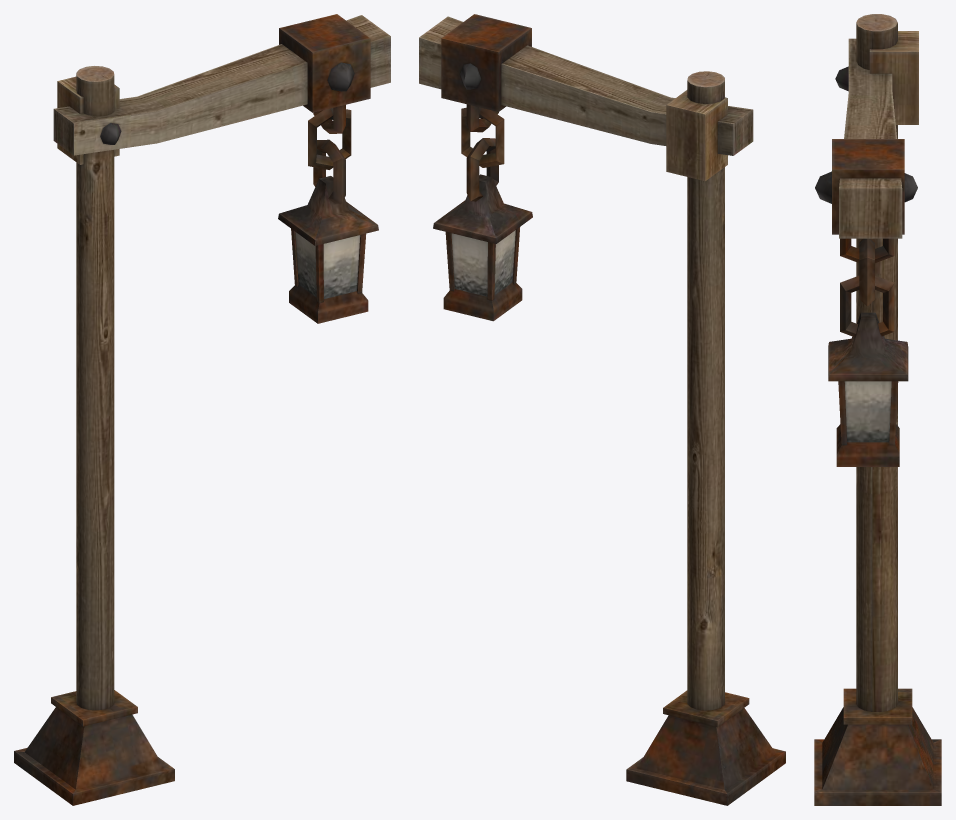
The model's file is Lamp_Street_2.glb.
The picture shows the model from 3 angles, left to right: view 1: azimuth 30°, elevation 25°; view 2: azimuth 150°, elevation 25°; view 3: azimuth 270°, elevation 25°; orthographic projection. The views are drawn at different scales.
Visible parts, largest first — view 1: Lamp_Street_2; view 2: Lamp_Street_2; view 3: Lamp_Street_2.
Boxes of the visible parts, box(x1,y1,x2,y2) form: Lamp_Street_2: box(14, 14, 390, 805); Lamp_Street_2: box(419, 14, 785, 805); Lamp_Street_2: box(814, 14, 941, 805).
Size of the model in its own units: 1.38 by 2.8 by 0.428.
1 material, 1 textured.
